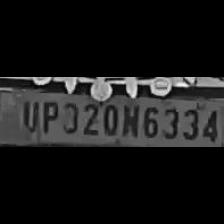0: (99, 100, 119, 138)
2: (79, 99, 98, 136)
3: (59, 99, 79, 135), (159, 103, 179, 139), (180, 104, 198, 140)
4: (199, 105, 219, 142)
6: (139, 102, 159, 138)
N: (119, 100, 138, 138)
P: (38, 98, 58, 134)
U: (18, 96, 38, 134)
